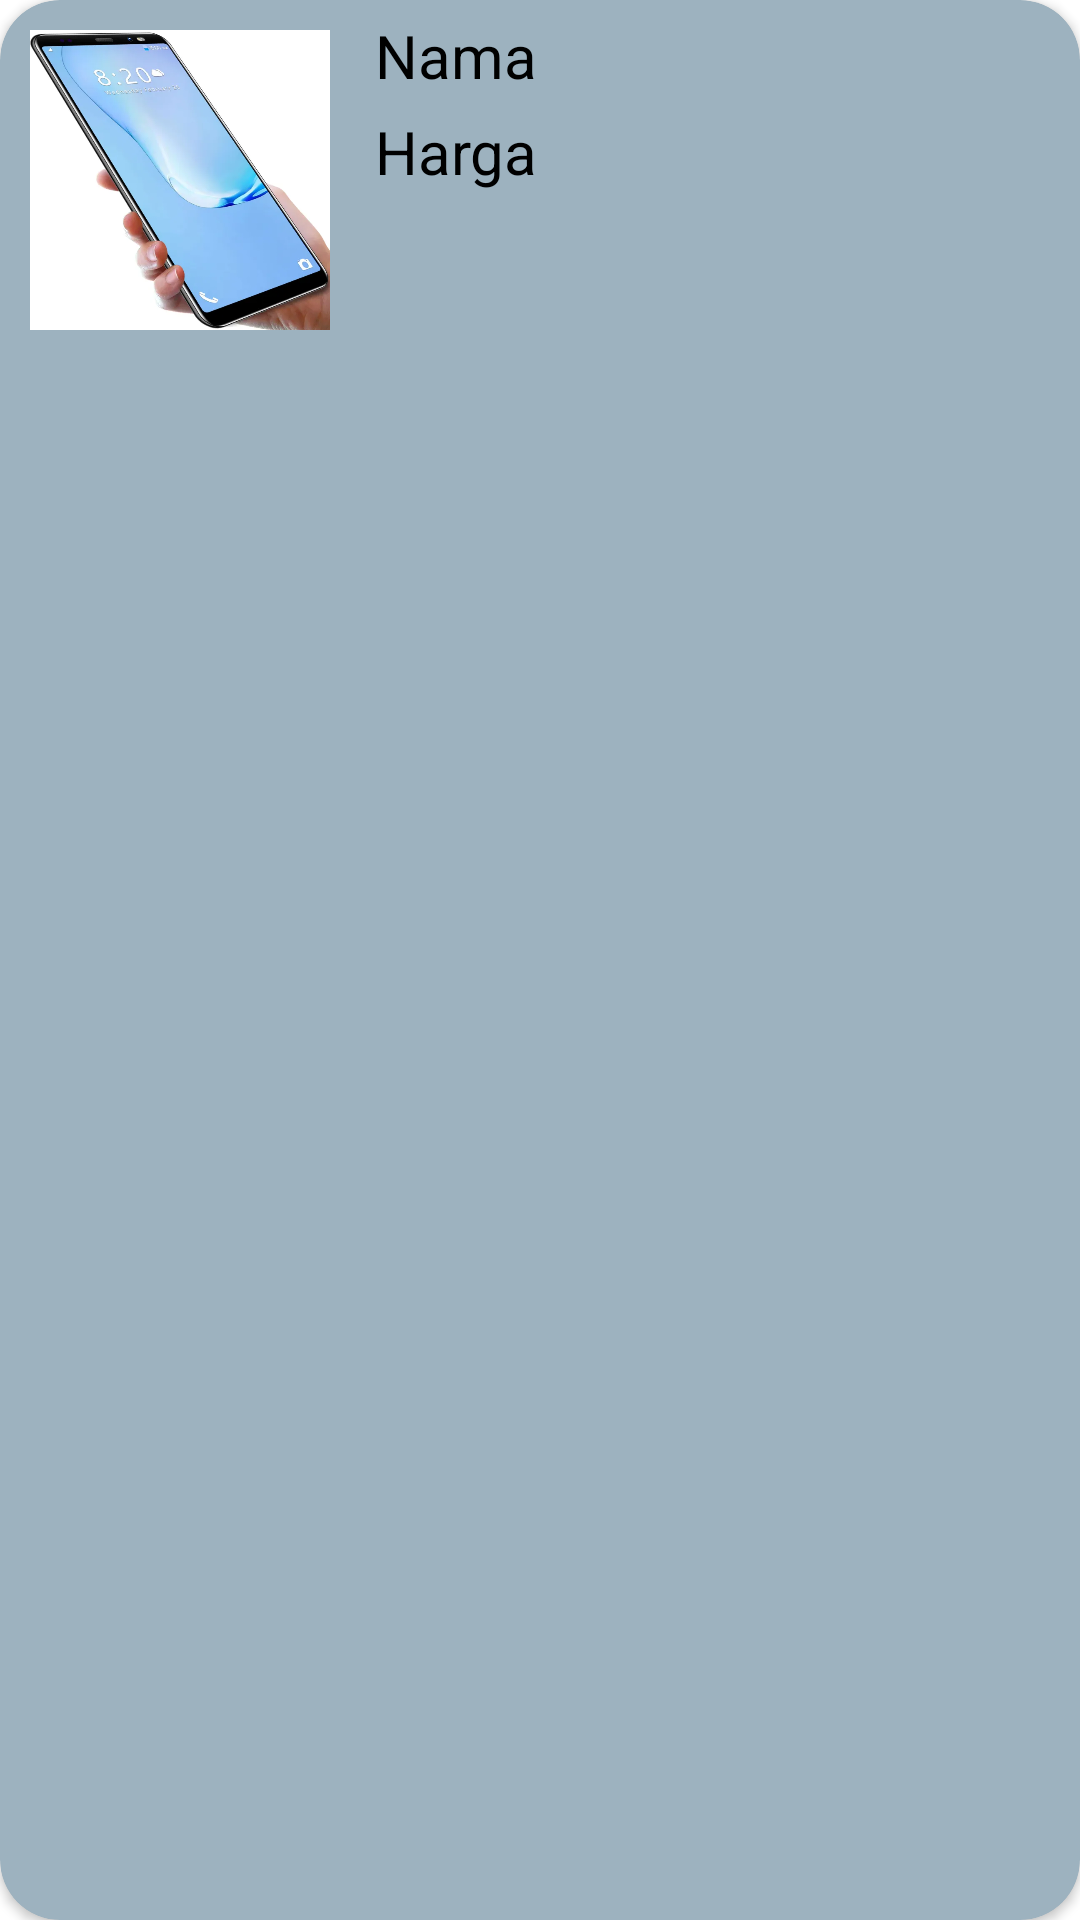

Icons on this 1080×1920 Android screen, each with its box as (x1, y1, x2, y2):
product: (30, 30, 330, 330)
